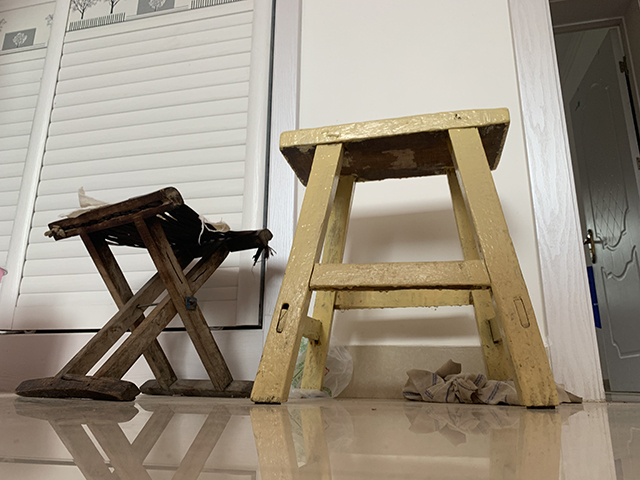cabinet: (1, 1, 303, 395)
stool: (247, 106, 561, 412), (13, 185, 275, 403)
